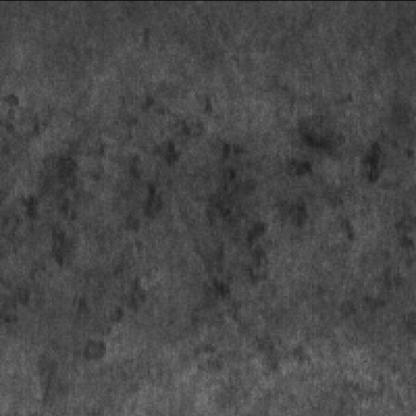rolled-in_scale: (6, 89, 266, 332), (281, 114, 414, 233)
